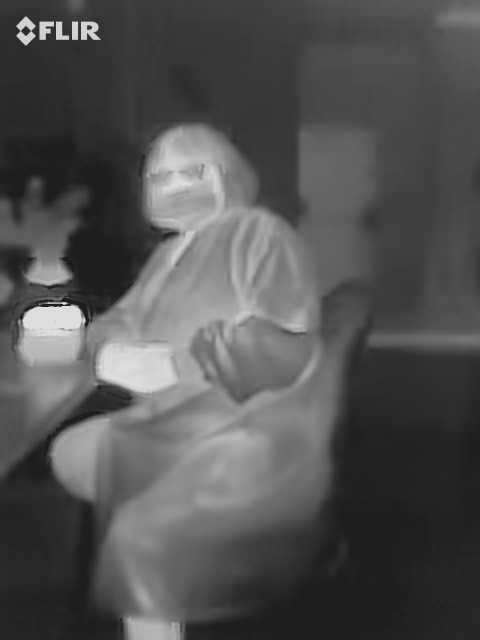head: (139, 121, 259, 231)
